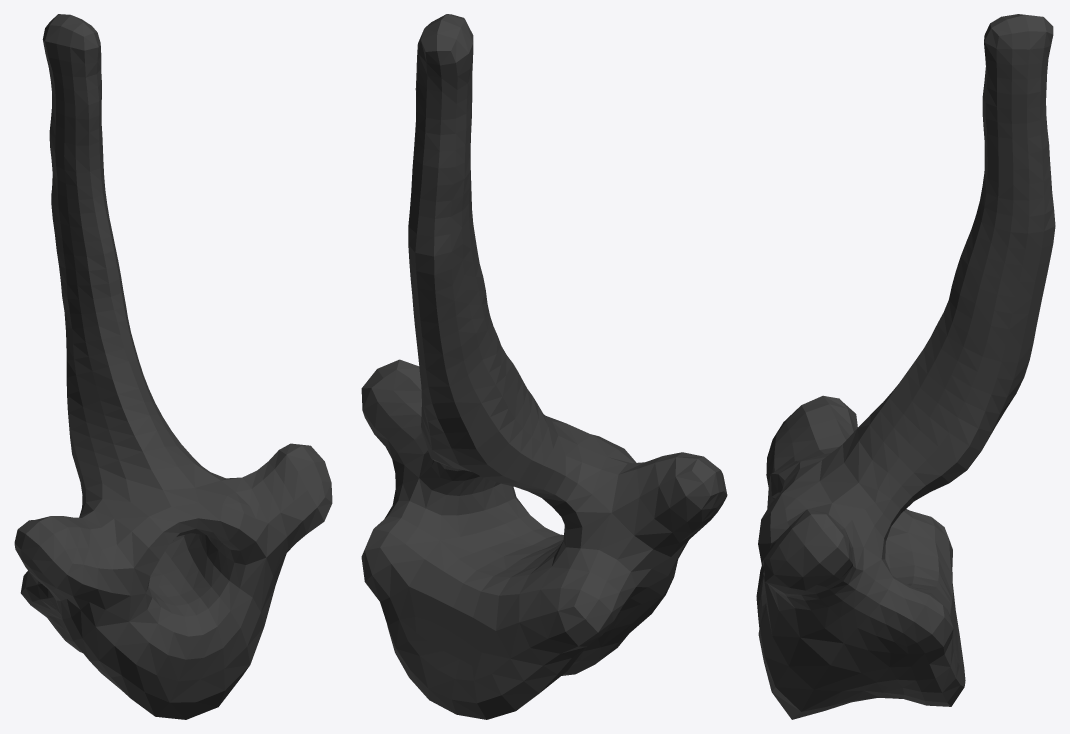
The picture shows the model from 3 angles, left to right: view 1: azimuth 30°, elevation 25°; view 2: azimuth 150°, elevation 25°; view 3: azimuth 270°, elevation 25°; orthographic projection. The views are drawn at different scales.
Visible parts, largest first — view 1: T4; view 2: T4; view 3: T4.
Part boxes in pixels (x1,y1,x2,y2): T4: (14,14,332,719); T4: (361,14,727,719); T4: (756,14,1055,719).
Size of the model in its own units: 2.17 by 4.32 by 1.7.
Materials: 1 (1 with a texture image).
